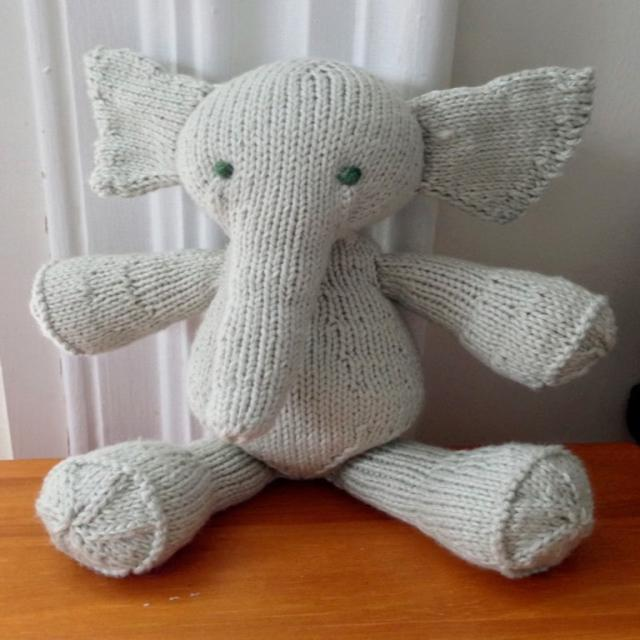elephant: (29, 43, 626, 630)
